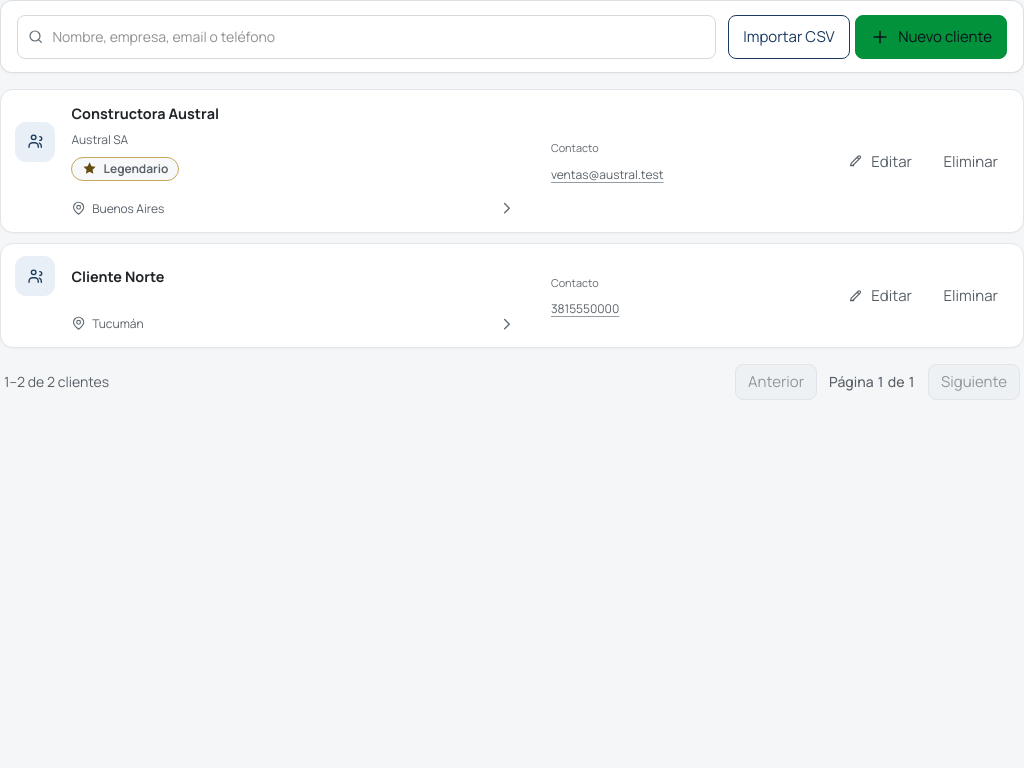
Test: CustomersPage › reuses the form for editing and keeps API errors recoverable
The width and height of the screenshot is (1024, 768).
Expected: the link "Constructora Austral" is shown, top-left (1, 90), bottom-right (541, 232)
Click the button with aria-label "Editar a Constructora Austral". click: (880, 161)
box: top-left (835, 139), bottom-right (925, 183)
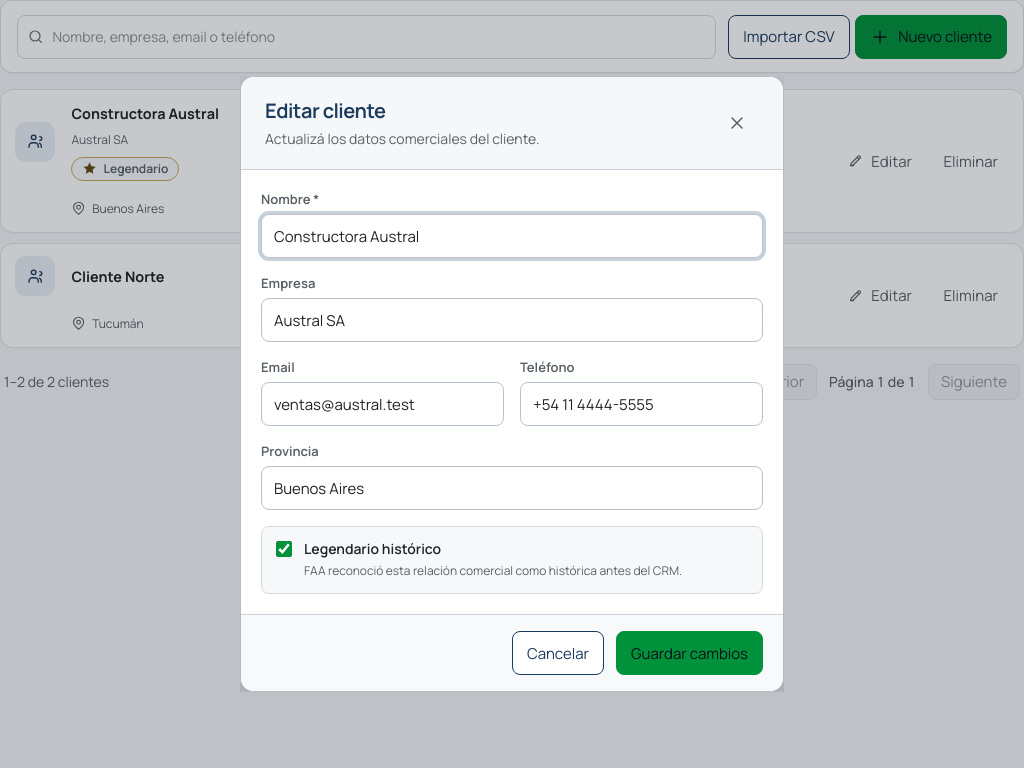
Expected: the field labelled "Nombre *" holds "Constructora Austral", top-left (261, 214), bottom-right (763, 258)
Expected: the field labelled "Empresa" holds "Austral SA"
Replace the text in the field labelled "Empresa" with "Austral Renovada SA". click: (512, 320)
box: top-left (261, 298), bottom-right (763, 342)
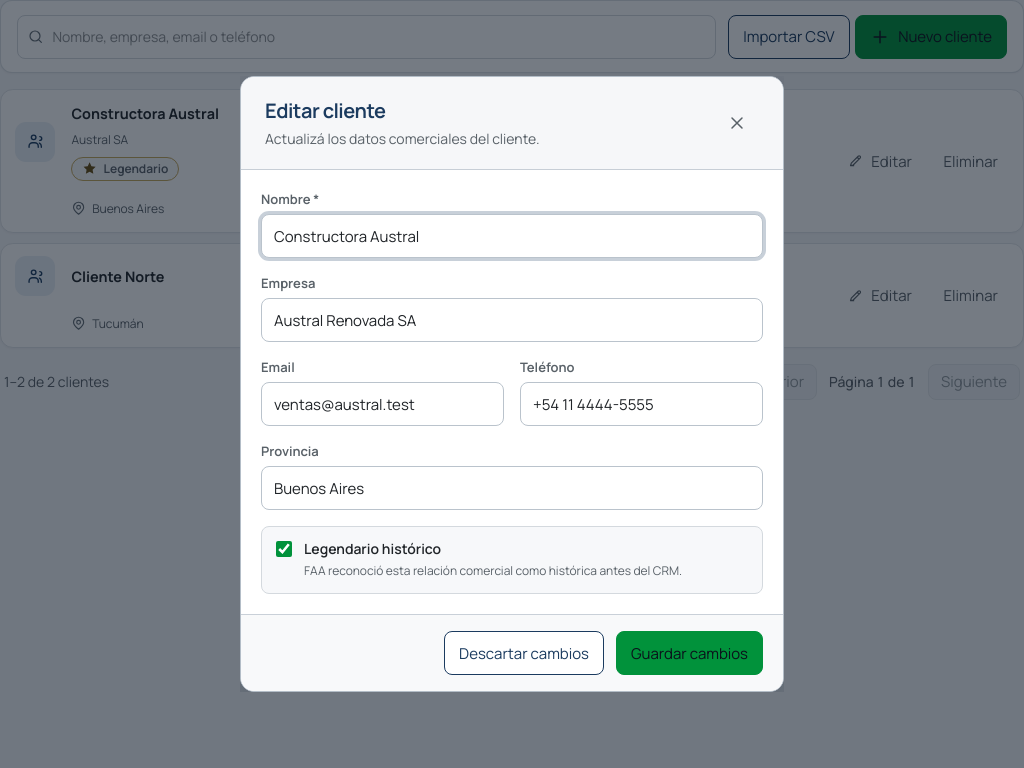
Click the button "Guardar cambios". click: (689, 653)
box: top-left (616, 631), bottom-right (763, 675)
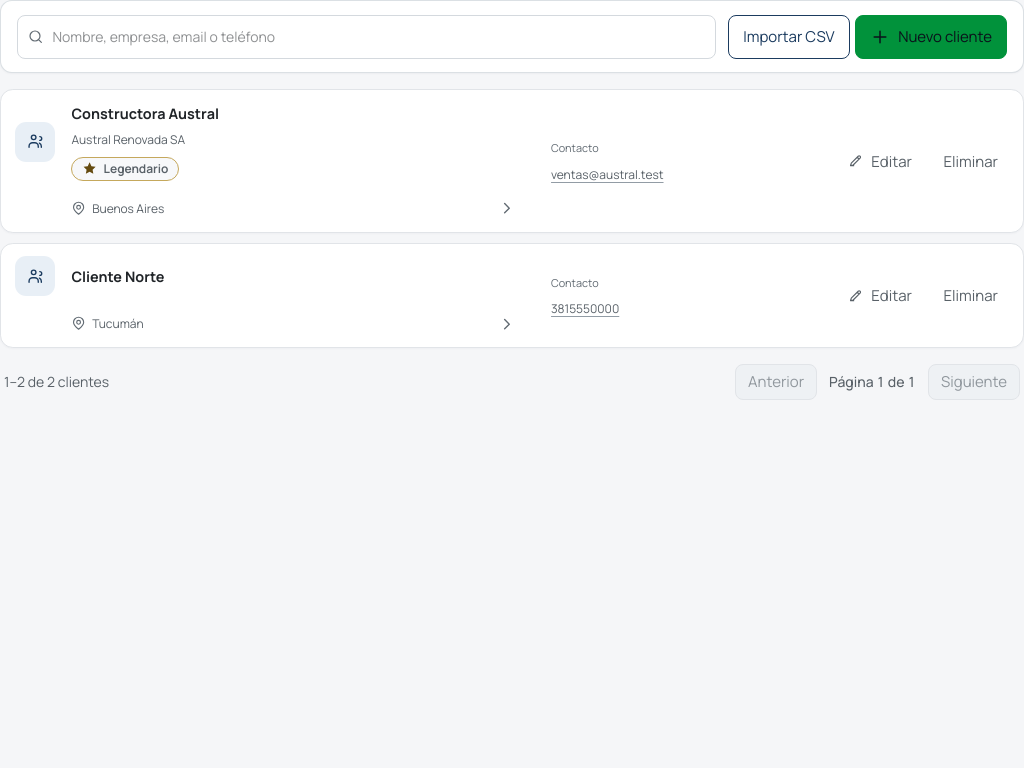
Expected: the dialog is gone
Expected: the text "Austral Renovada SA" is shown, top-left (71, 131), bottom-right (185, 148)
